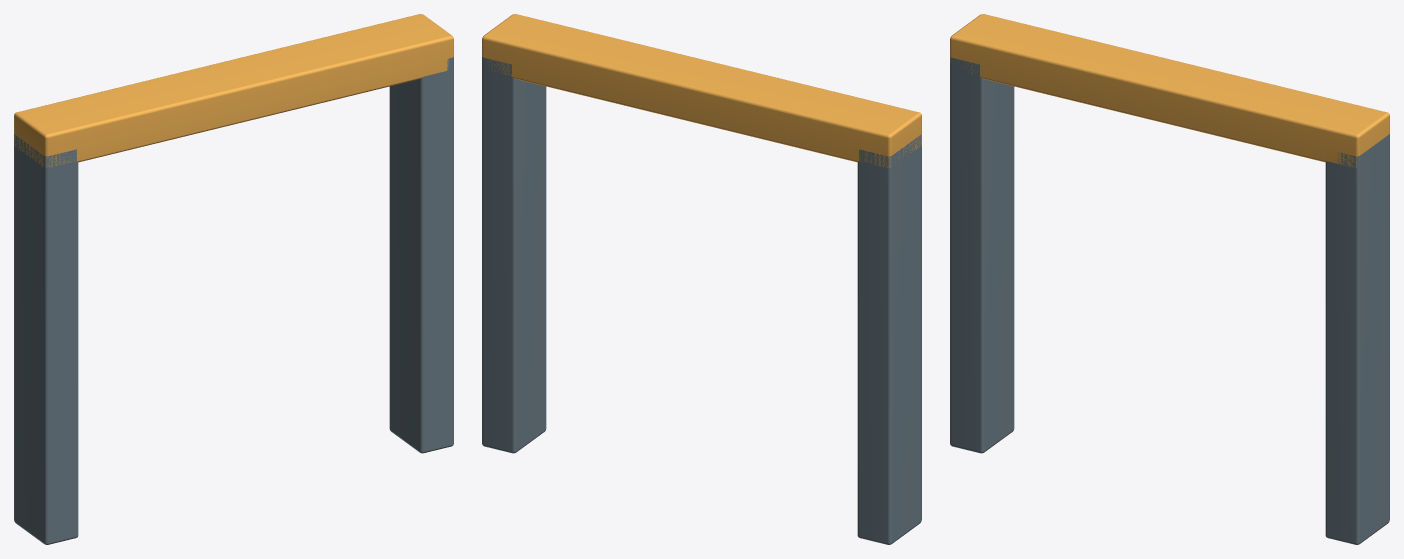
Rendered from SM_FE_DoorFrame.fbx.
The picture shows the model from 3 angles, left to right: view 1: azimuth 30°, elevation 25°; view 2: azimuth 150°, elevation 25°; view 3: azimuth 330°, elevation 25°; orthographic projection.
Visible parts, largest first — view 1: SM_FE_DoorFrame; view 2: SM_FE_DoorFrame; view 3: SM_FE_DoorFrame.
Boxes of the visible parts, <box> form: SM_FE_DoorFrame: <box>14,14,453,544</box>; SM_FE_DoorFrame: <box>482,14,921,544</box>; SM_FE_DoorFrame: <box>950,14,1389,544</box>.
Size of the model in its own units: 360 by 50 by 345.
